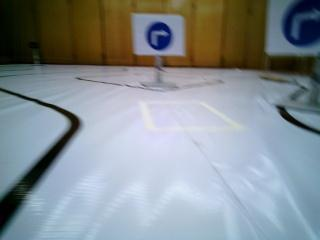right: (271, 2, 320, 55), (130, 13, 182, 53)
